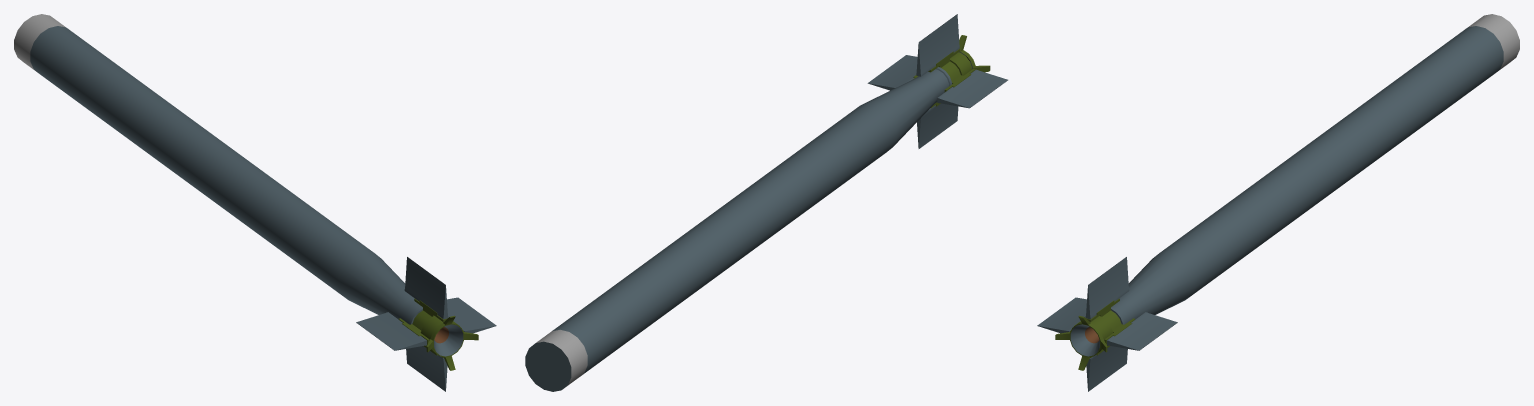
File: ЗУР-ДУ-МД_П.fbx
The picture shows the model from 3 angles, left to right: view 1: azimuth 30°, elevation 25°; view 2: azimuth 150°, elevation 25°; view 3: azimuth 330°, elevation 25°; orthographic projection.
Visible parts, largest first — view 1: Circle.003; view 2: Circle.003; view 3: Circle.003.
Part boxes in pixels (x1,y1,x2,y2): Circle.003: (14,14,496,391); Circle.003: (525,14,1007,391); Circle.003: (1037,14,1519,391).
Bounding box in the file's own units: 130 × 130 × 913.
2 materials, 1 textured.
